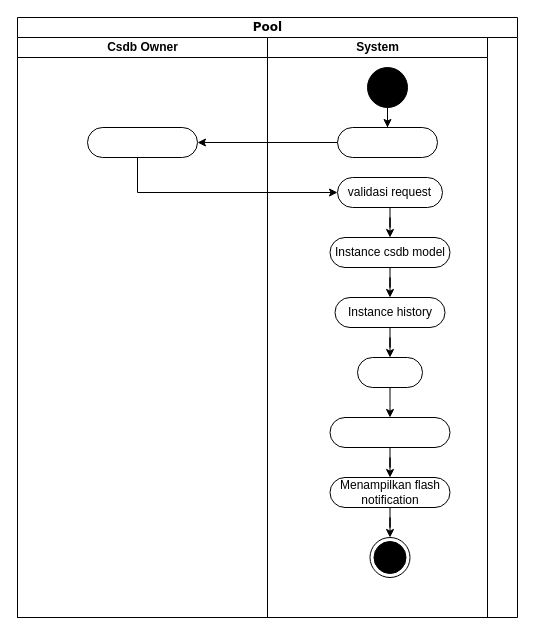
Image size: 535x635. Some labels were removed from this diagram. The centre of each missing label's shape, as x and y in pixels:
dispatch job create object: the point at 389,432
menampilkan text editor: the point at 387,142
menulis xml file: the point at 142,142
save: the point at 389,372
